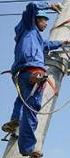boots: (1, 119, 18, 133), (20, 149, 43, 157)
hard-hat: (34, 10, 48, 20)
ppe-suit: (1, 1, 69, 158)
